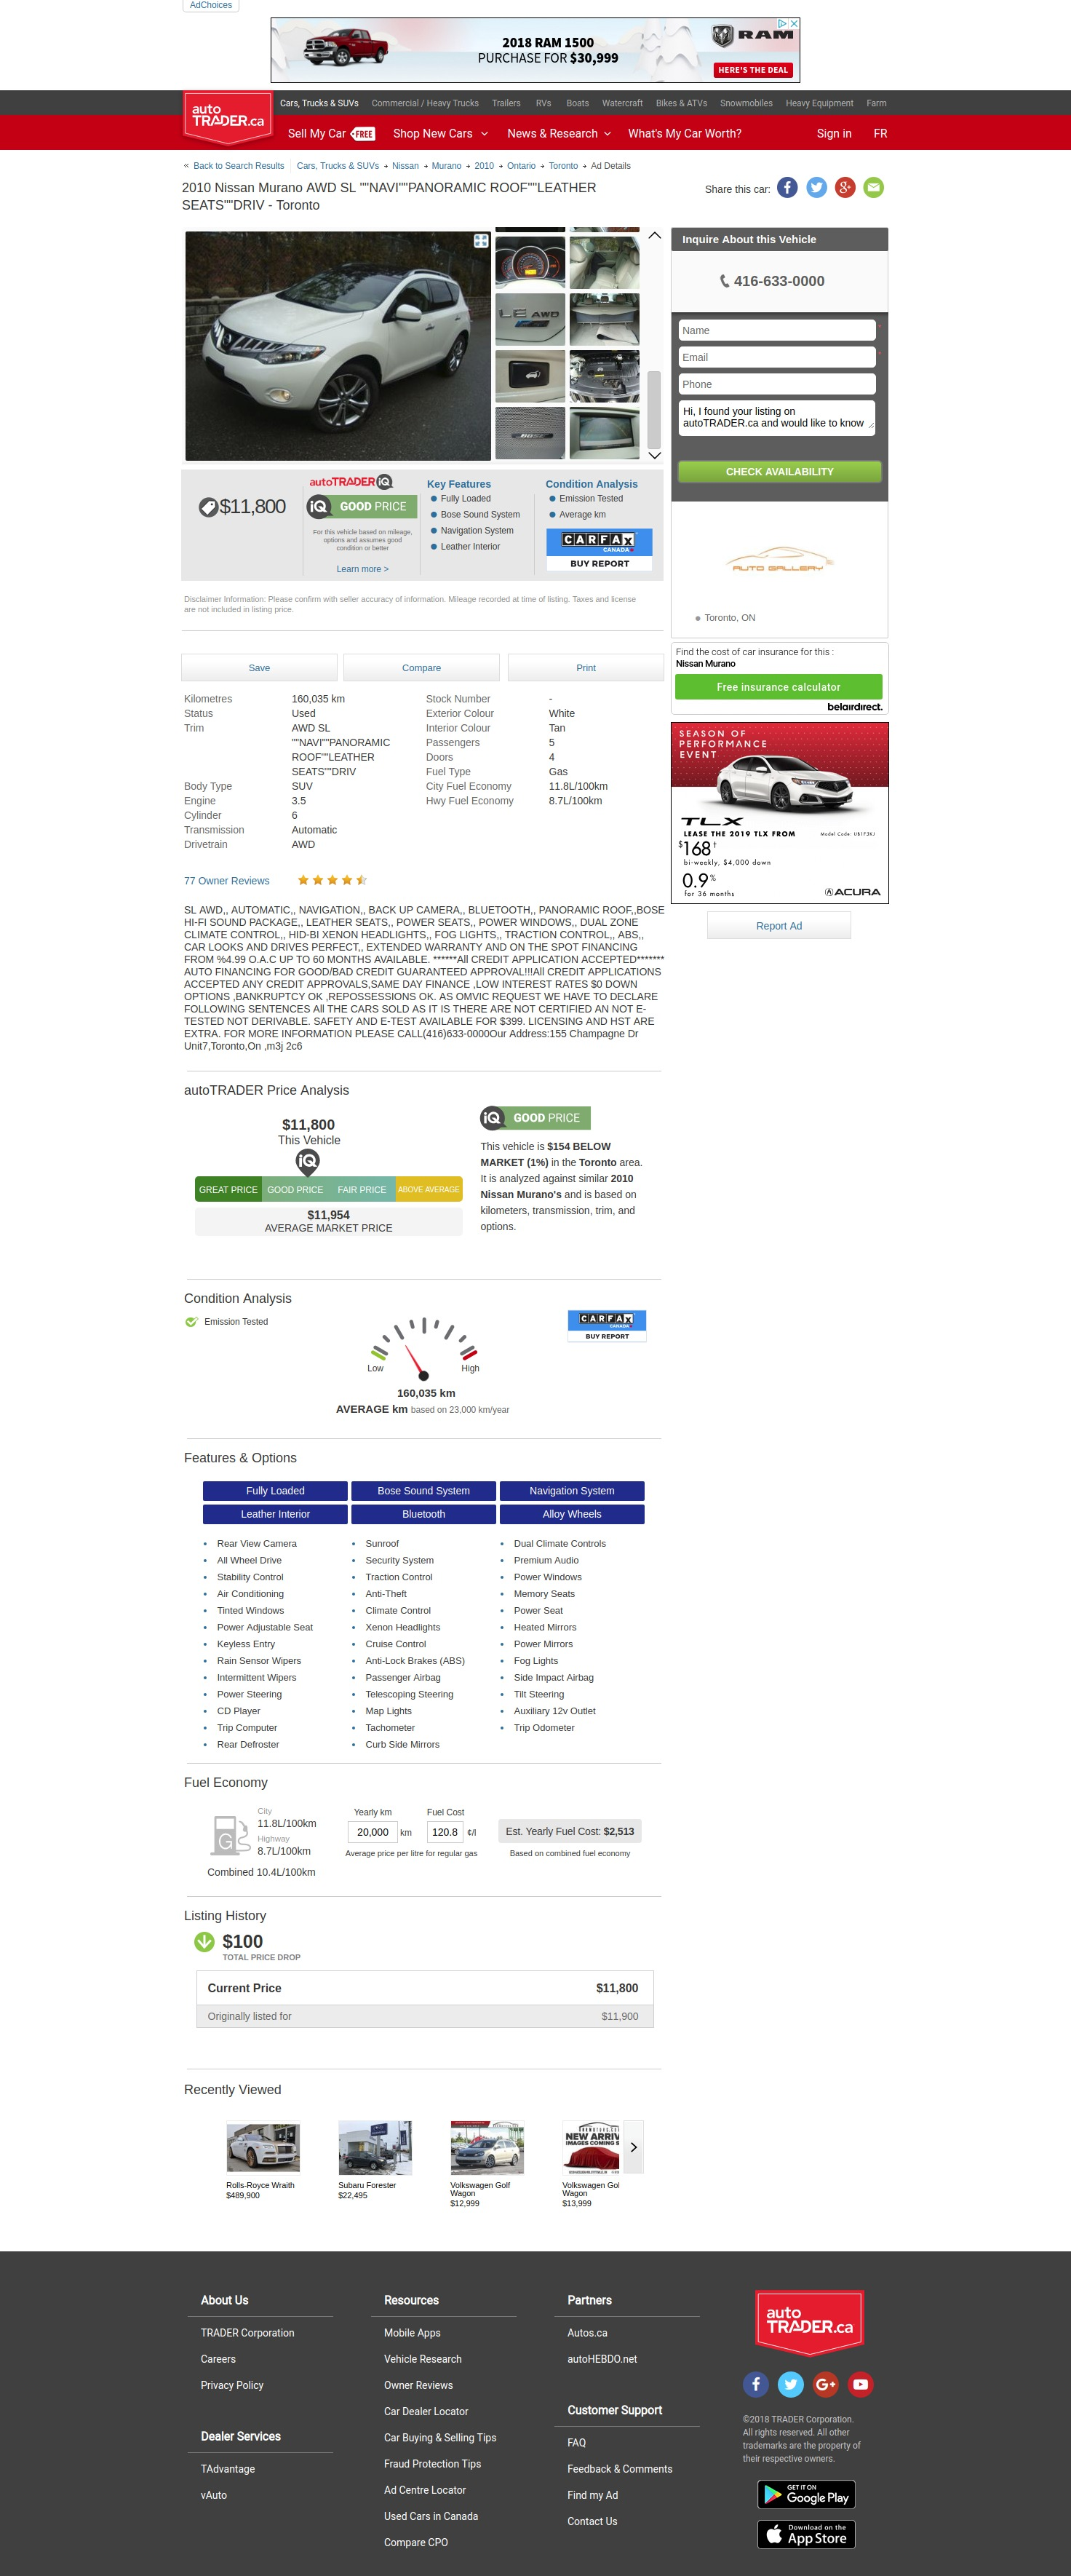car: (649, 452, 662, 460)
